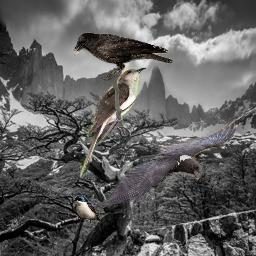Crow: (96, 122, 236, 209), (72, 32, 173, 81)
Cuckoo: (80, 67, 146, 178)
Swallow: (74, 195, 101, 223)
